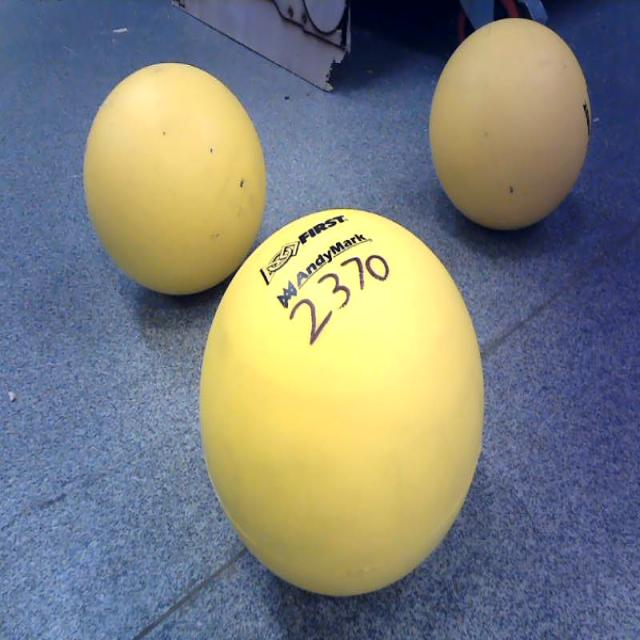Fuel: (200, 208, 484, 596), (84, 63, 267, 295), (430, 17, 591, 229)
